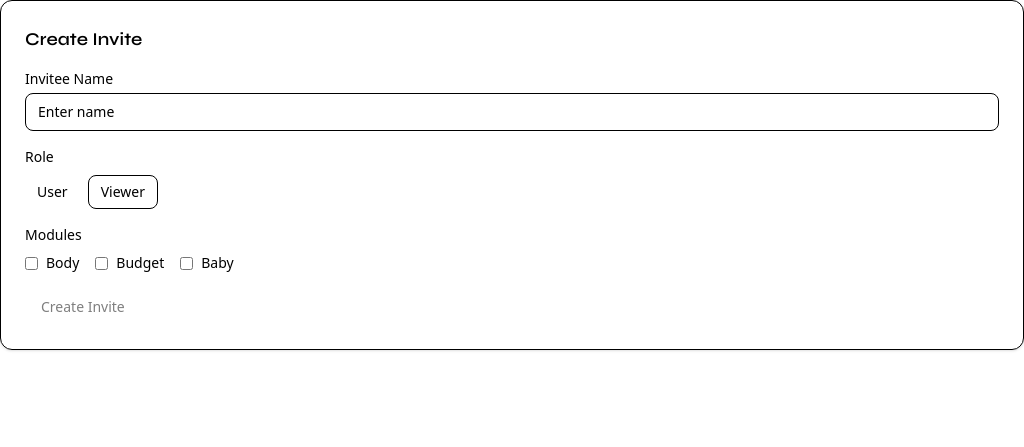
Test: InviteGenerator — role selector › shows "View of" user picker when Viewer role selected
Click the button "Viewer" at [123, 192], box [88, 175, 158, 209]
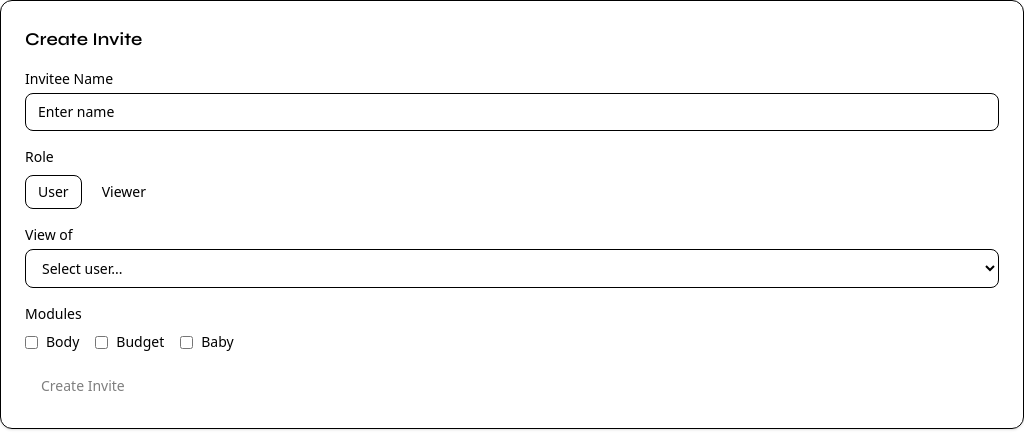
Now the text "View of" is shown, box [25, 225, 73, 244]
